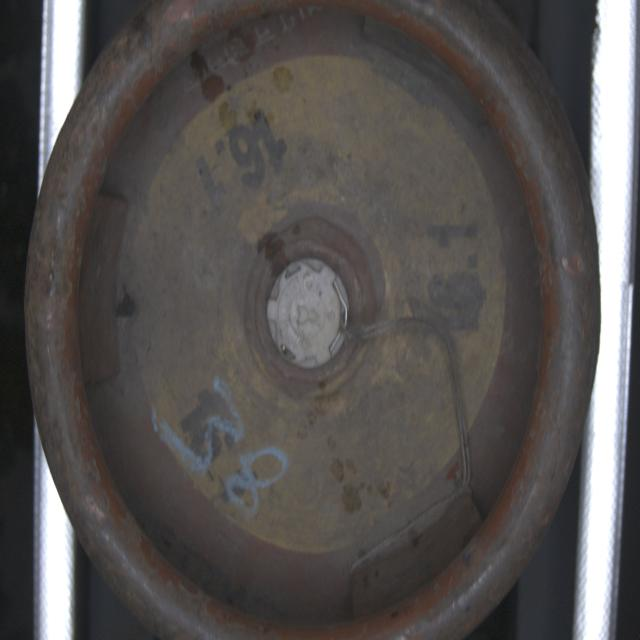Cap: (260, 251, 349, 375)
